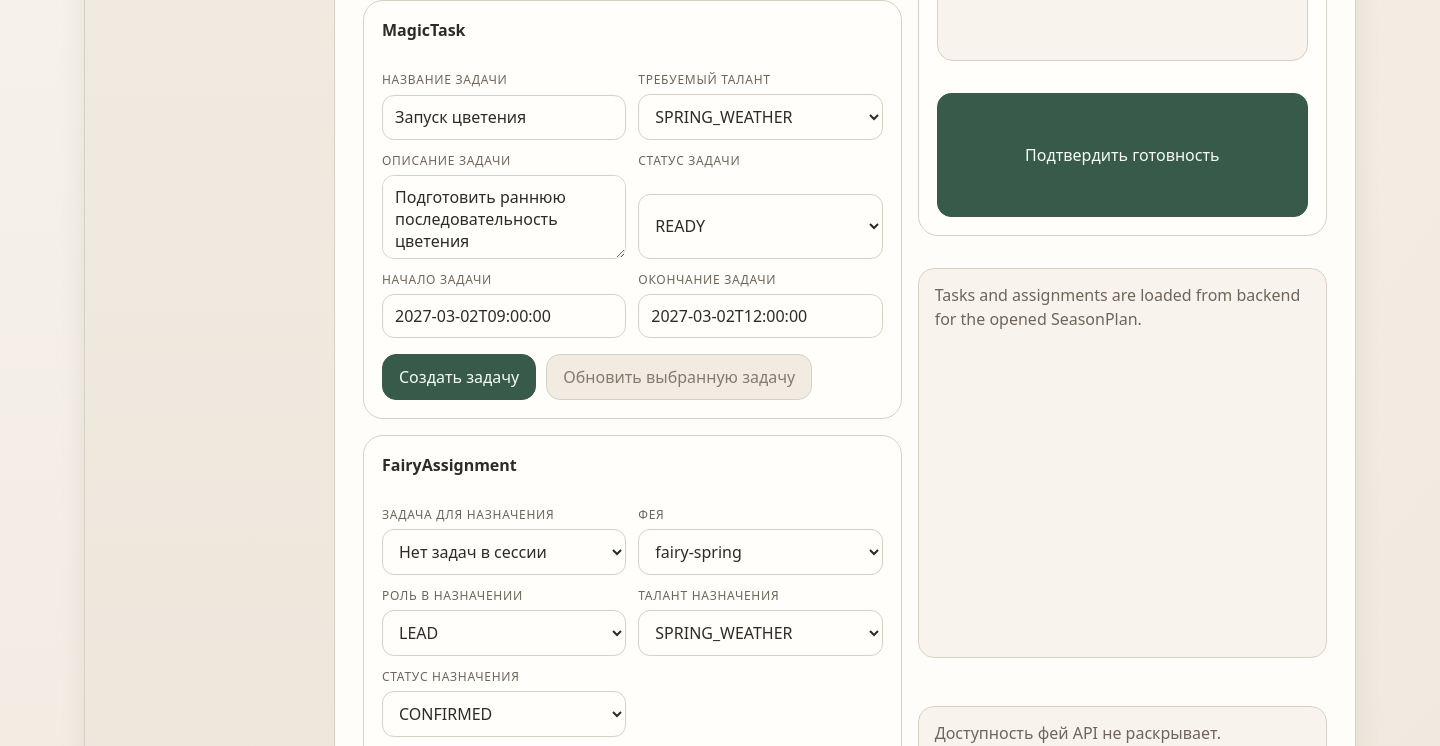
Test case: PreparationPage › creates a task and assigns a compatible fairy
(page scrolled)
Click the button "Создать задачу".
click(459, 377)  # box [382,354,536,400]
(page scrolled)
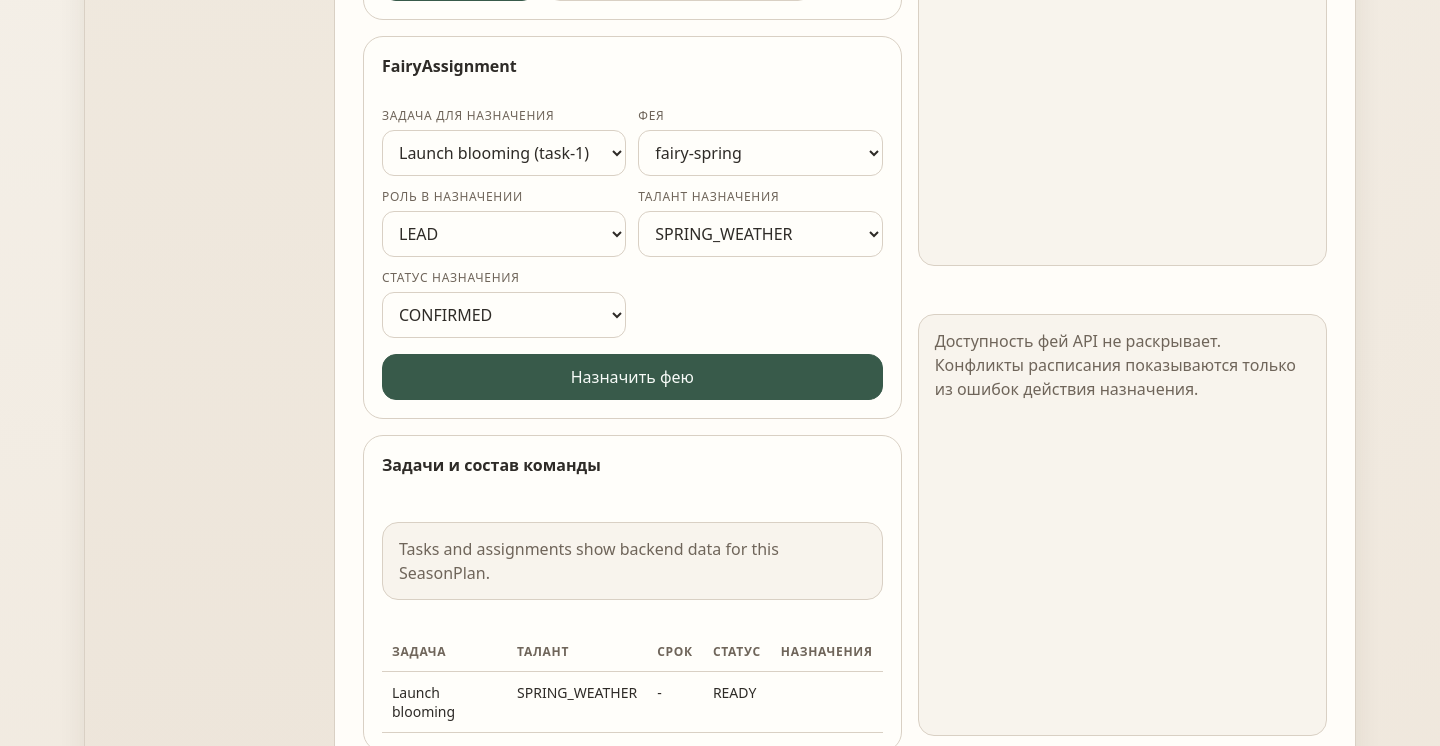
Expected: the text "Launch blooming" is shown, [382,671,507,732]
Click the button "Назначить фею".
click(632, 377)  # box [382,354,883,400]
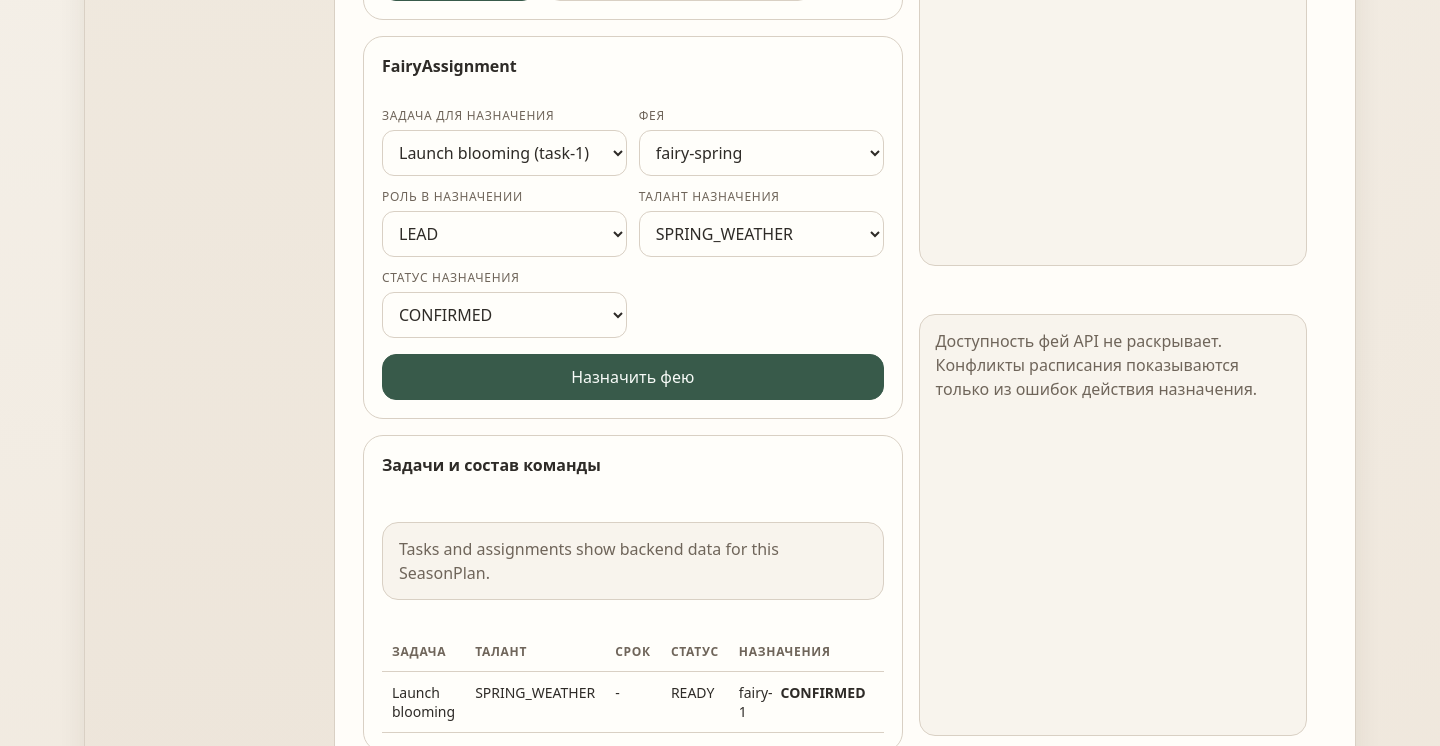
Expected: the text "fairy-1" is shown, [739,683,772,721]
